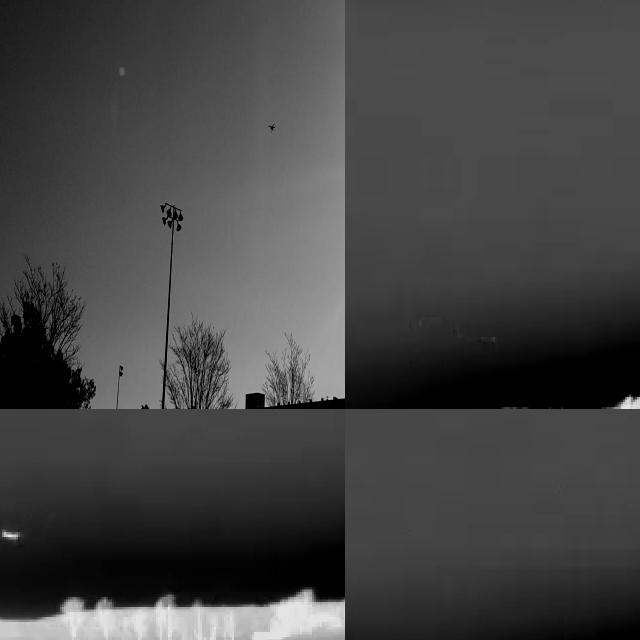0: (475, 327, 505, 357)
1: (0, 520, 31, 555)
drone: (266, 115, 280, 138)
